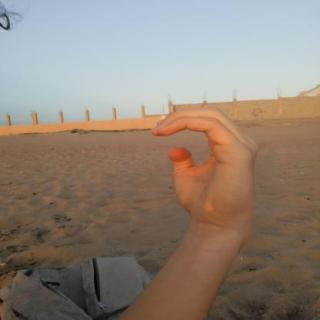JEEM: (138, 102, 278, 238)
